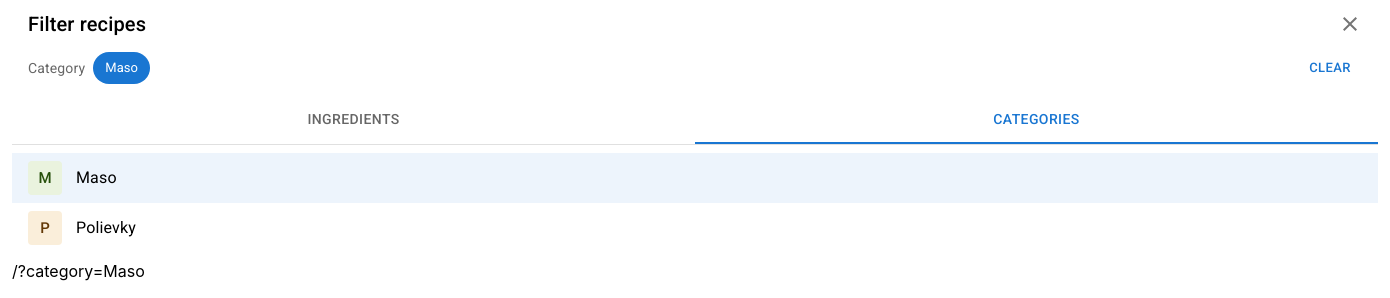
Test case: RecipeMenu › shows the filter in use, on its own tab, and clears it
Expected: the text "Category" is shown, [28,58,85,78]
Click the button "Clear": (1330, 68) [1298,53,1362,83]
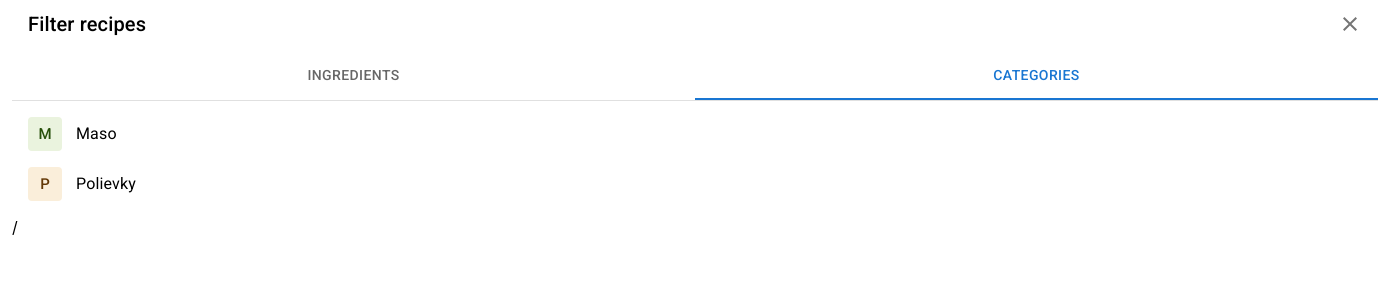
Now the text with test id "location" reads "/", box [12,217,18,237]
